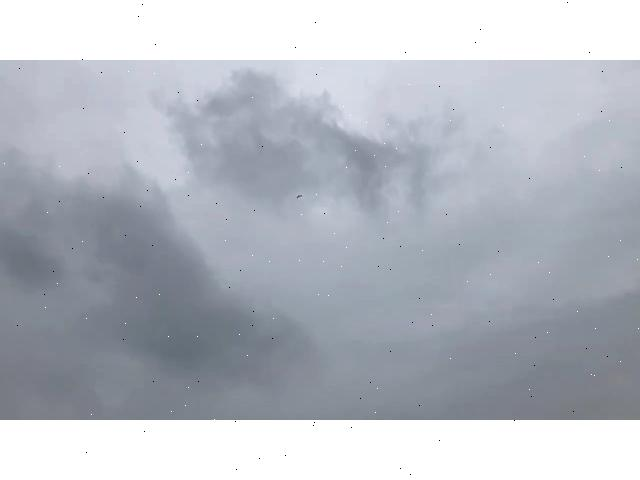Anti-Drone: (288, 188, 314, 202)
